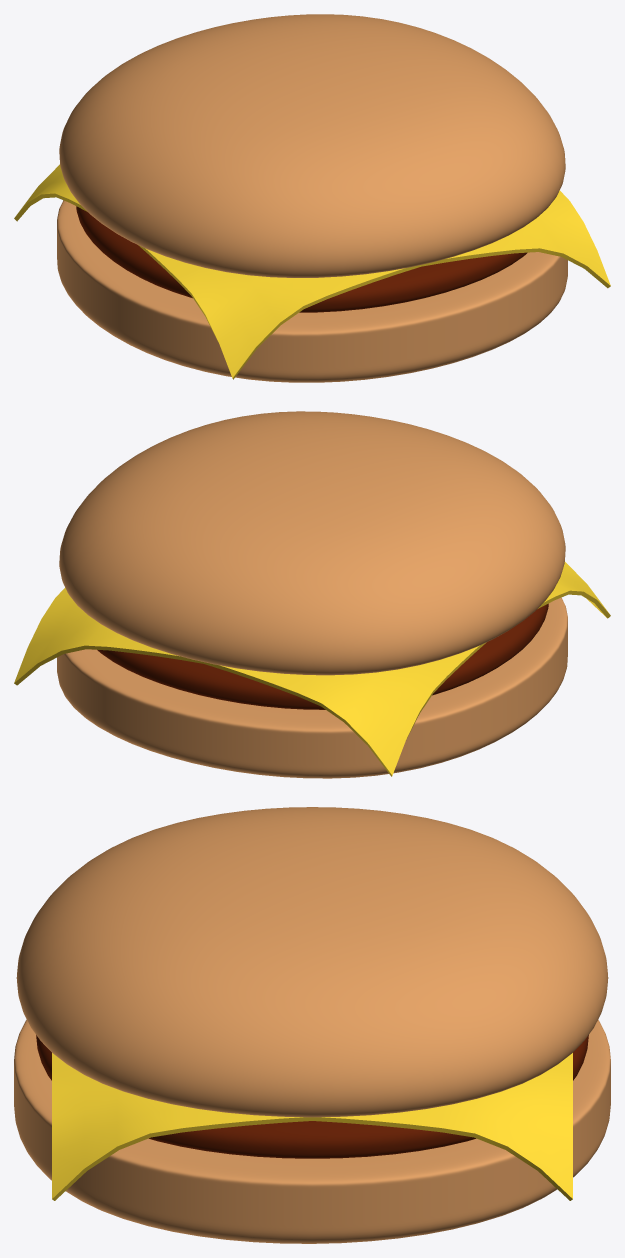
File: hamburger.glb
3 renders of one model, top to bottom at view 1: azimuth 30°, elevation 25°; view 2: azimuth 150°, elevation 25°; view 3: azimuth 270°, elevation 25°, orthographic. The views are drawn at different scales.
Visible parts, largest first — view 1: Cube.002, Cube, Plane, Cube.001; view 2: Cube.002, Cube, Plane, Cube.001; view 3: Cube.002, Cube, Plane, Cube.001.
Boxes of the visible parts, box(x1,y1,x2,y2) form: Cube.002: box(59, 14, 565, 277); Cube: box(57, 200, 567, 382); Plane: box(14, 164, 610, 379); Cube.001: box(76, 206, 527, 312); Cube.002: box(59, 411, 565, 675); Cube: box(57, 597, 567, 778); Plane: box(14, 562, 610, 776); Cube.001: box(97, 603, 548, 709); Cube.002: box(16, 807, 608, 1117); Cube: box(14, 1019, 610, 1243); Plane: box(52, 1053, 572, 1200); Cube.001: box(36, 1035, 588, 1158).
Bounding box in the file's own units: 9.11 × 4.52 × 9.11.
